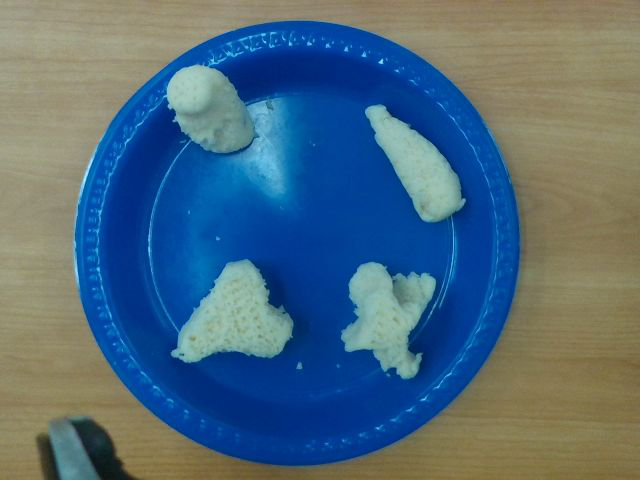mashed_potato: (177, 260, 293, 364), (364, 104, 465, 222), (342, 262, 437, 378), (167, 66, 254, 153)
